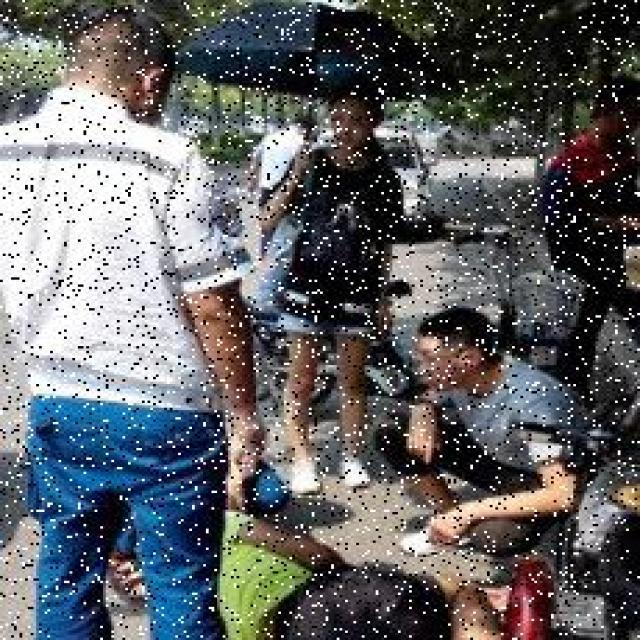fall: (203, 490, 512, 638)
